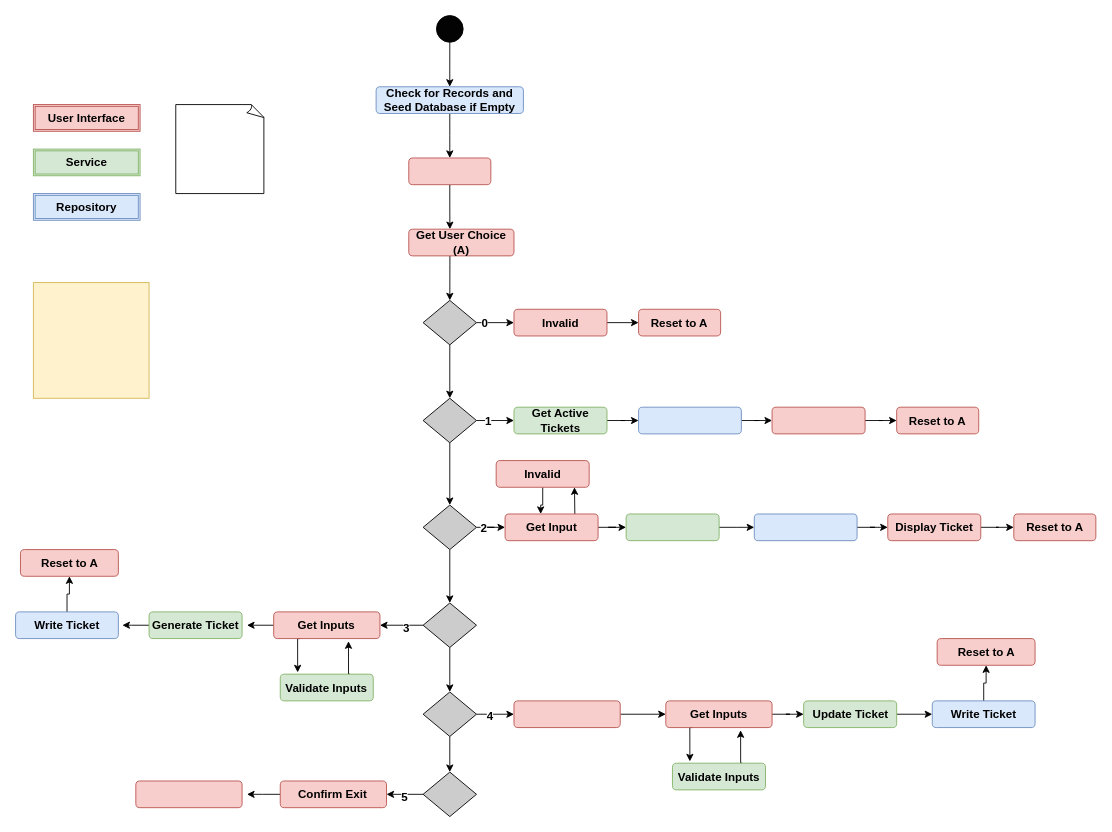
Image size: 1112x832. Some labels were removed from this diagram. Each missing label, with the box of its shape:
Choose Ticket: (513, 700, 620, 728)
Database: (32, 282, 149, 398)
Display Menu: (408, 157, 491, 185)
Display Tickets: (771, 406, 865, 434)
Exit Screen: (135, 780, 242, 808)
Get Ticket By Id: (625, 513, 719, 541)
Note: Any Repository Block Interfaces with the Database directly: (175, 104, 265, 194)
Read Active Tickets: (638, 406, 741, 434)
Read Ticket: (753, 513, 857, 541)
